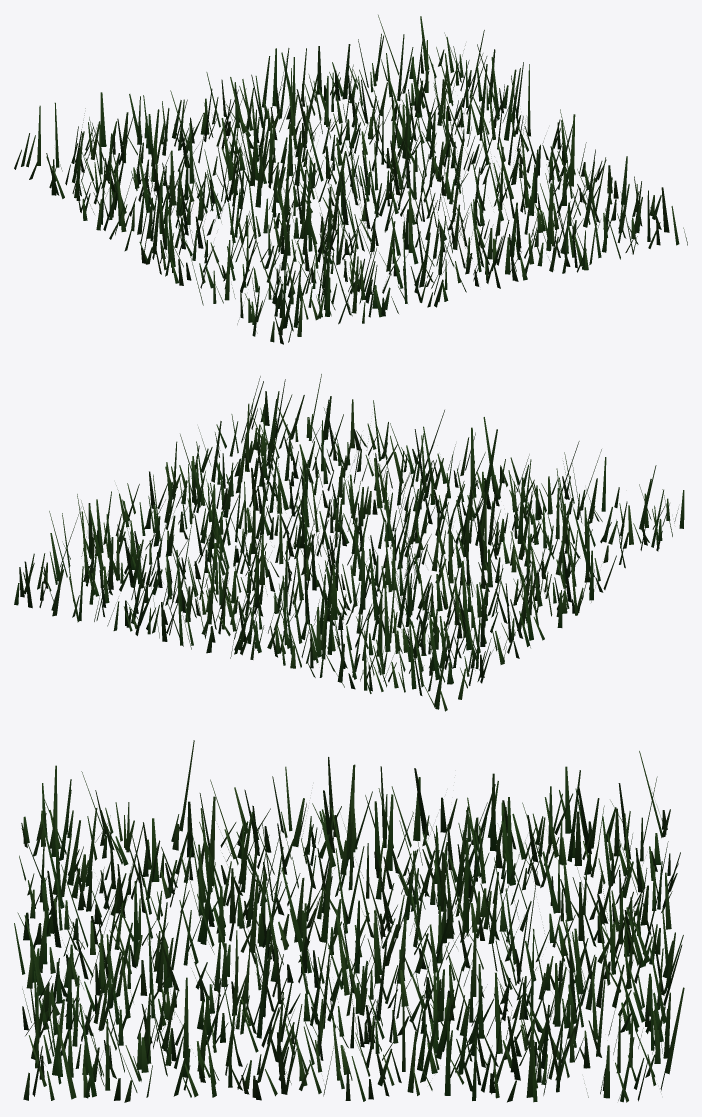
File: Turf_Shade.glb
3 renders of one model, top to bottom at view 1: azimuth 30°, elevation 25°; view 2: azimuth 150°, elevation 25°; view 3: azimuth 270°, elevation 25°, orthographic. The views are drawn at different scales.
Parts seen in each view (by area): view 1: Turf_Shade; view 2: Turf_Shade; view 3: Turf_Shade.
Part boxes in pixels (x1,y1,x2,y2): Turf_Shade: (14,15,687,344); Turf_Shade: (14,374,684,711); Turf_Shade: (14,740,684,1102).
Bounding box in the file's own units: 1.27 × 0.18 × 1.27.
